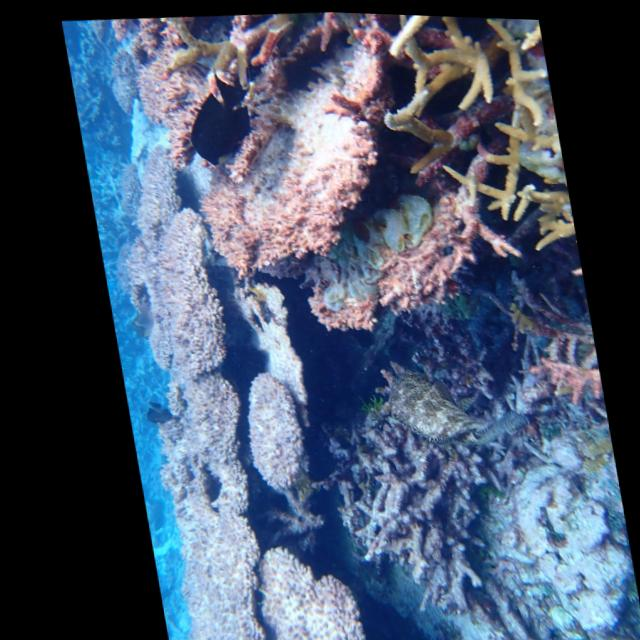Groupers: (381, 362, 528, 453)
